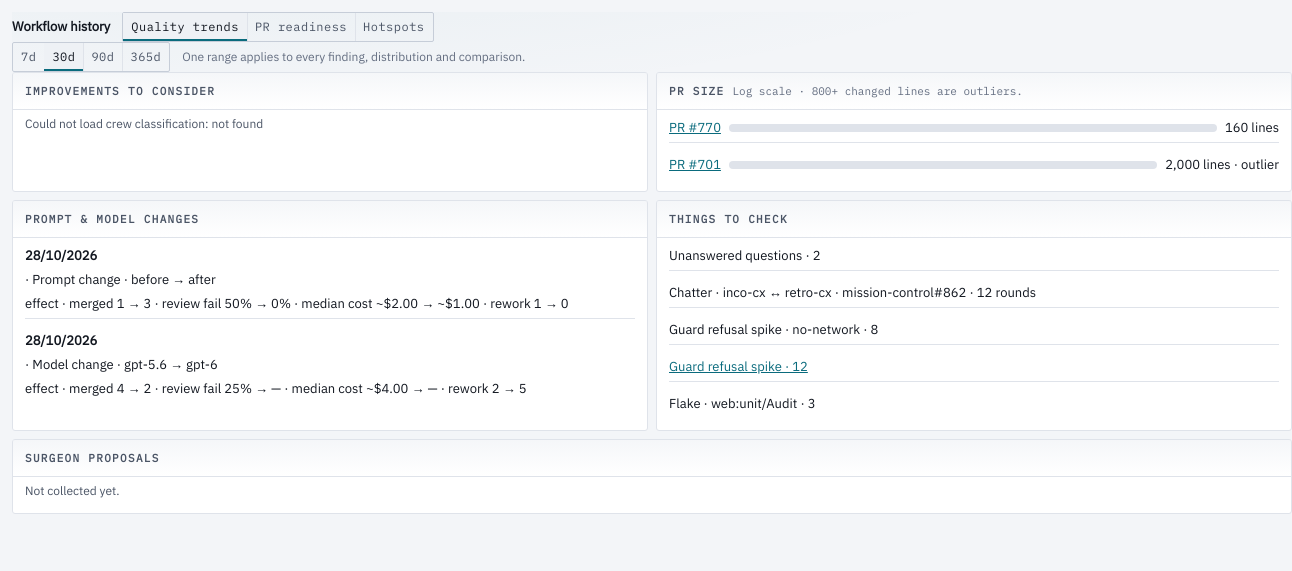
Test: labels retained evidence as stale and reports a failed newly-selected range
Click the button "7d": (29, 57) x1=13 y1=43 x2=44 y2=71
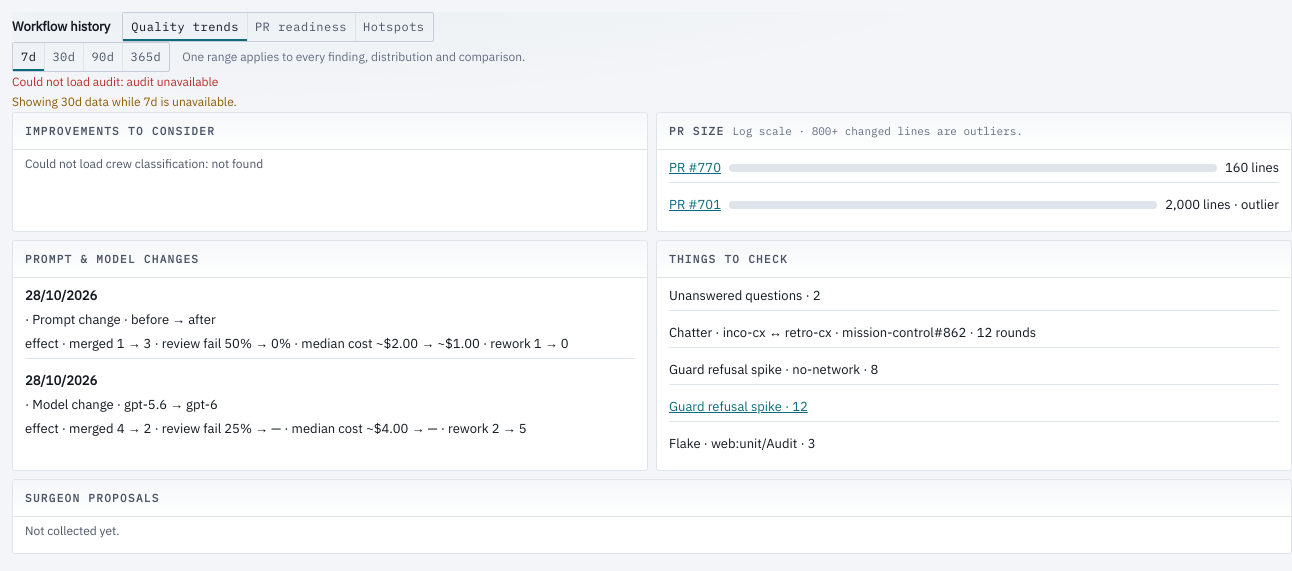
Now the text "Could not load audit: audit unavailable" is shown, box x1=12 y1=74 x2=218 y2=89
Now the text "Showing 30d data while 7d is unavailable." is shown, box x1=12 y1=94 x2=237 y2=109
